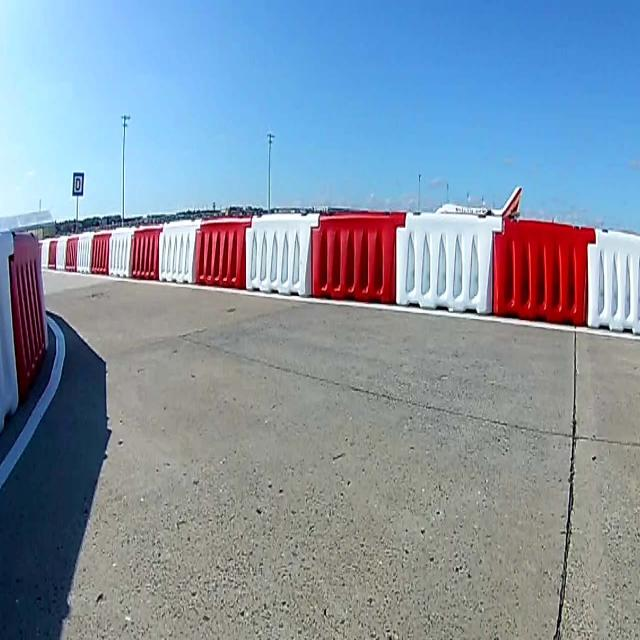durak: (72, 172, 84, 195)
